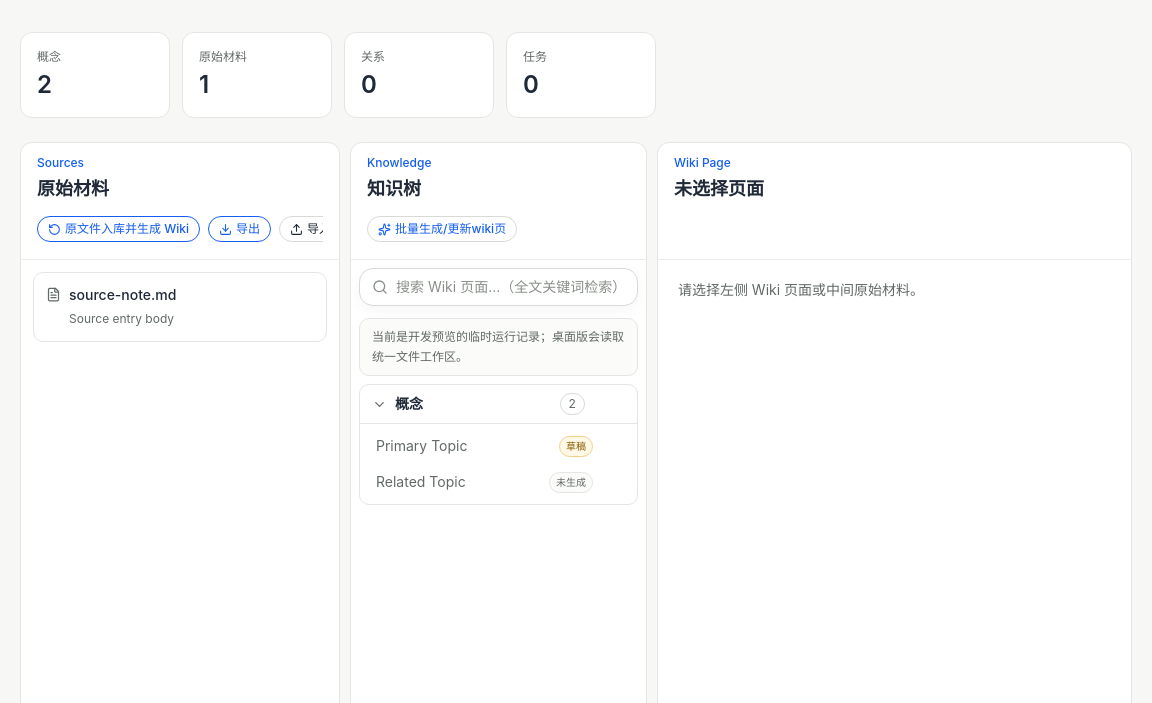
Test: RuntimeWikiPage › opens related entities and source entries from metadata chips
Click the button "Primary Topic" at x=461, y=446, box top-left (368, 430), bottom-right (555, 462)
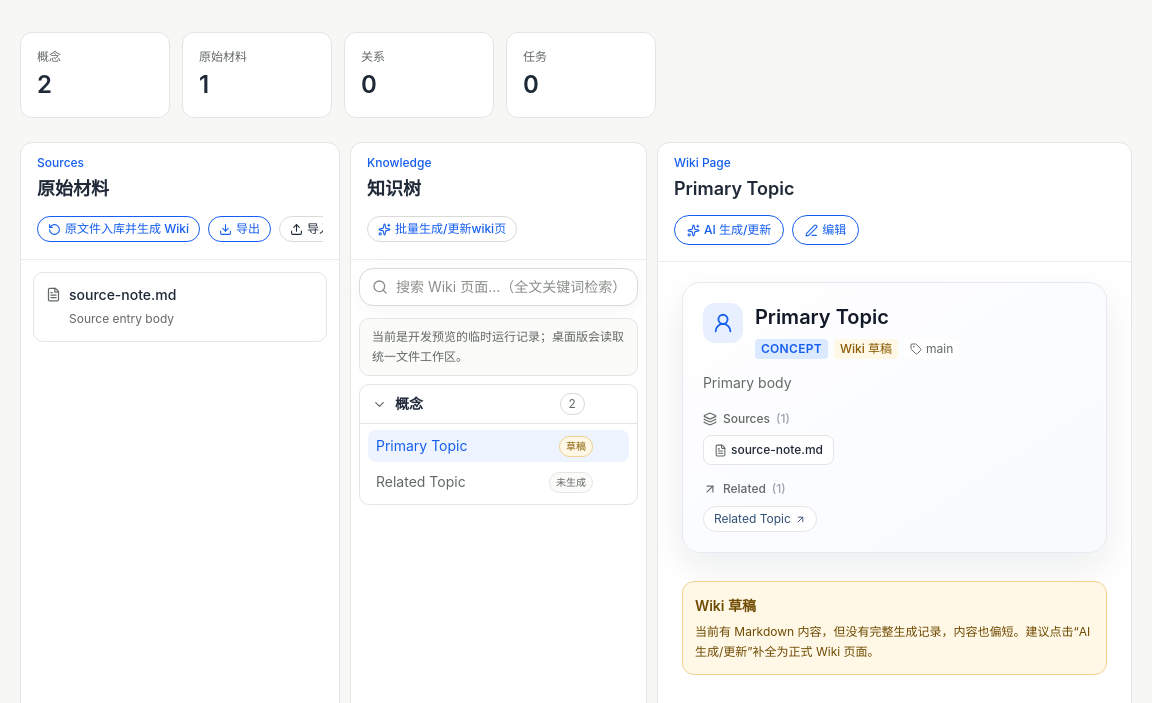
Click the button "Related Topic" below "concept" at x=760, y=518, box top-left (703, 505), bottom-right (817, 532)
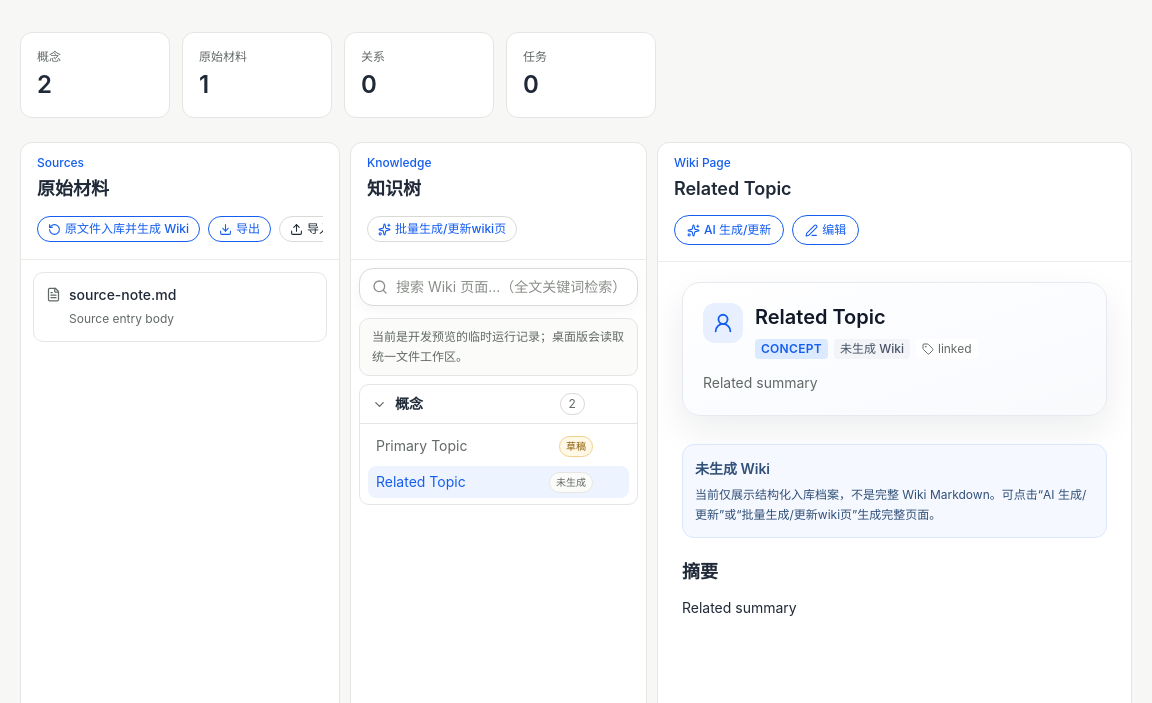
Expected: the text "Related Topic" is shown, top-left (376, 473), bottom-right (466, 490)
Click the button "Primary Topic" at x=461, y=446, box top-left (368, 430), bottom-right (555, 462)
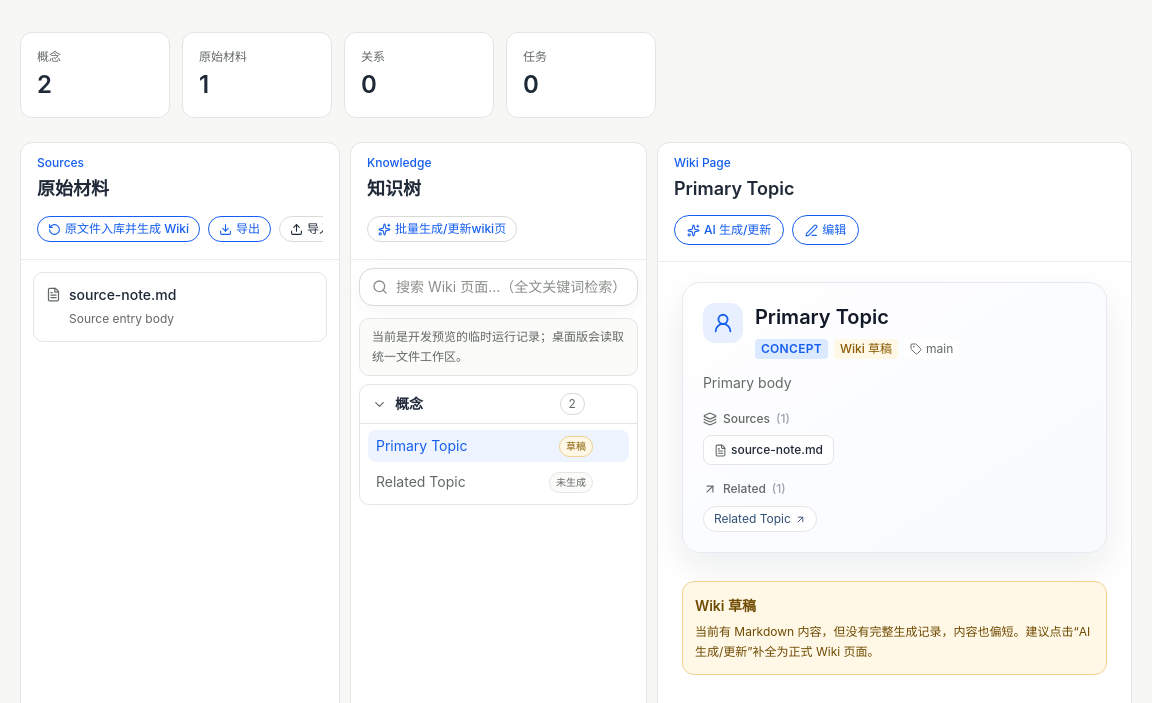
Click the button "source-note.md" at x=768, y=450, box top-left (703, 435), bottom-right (834, 465)
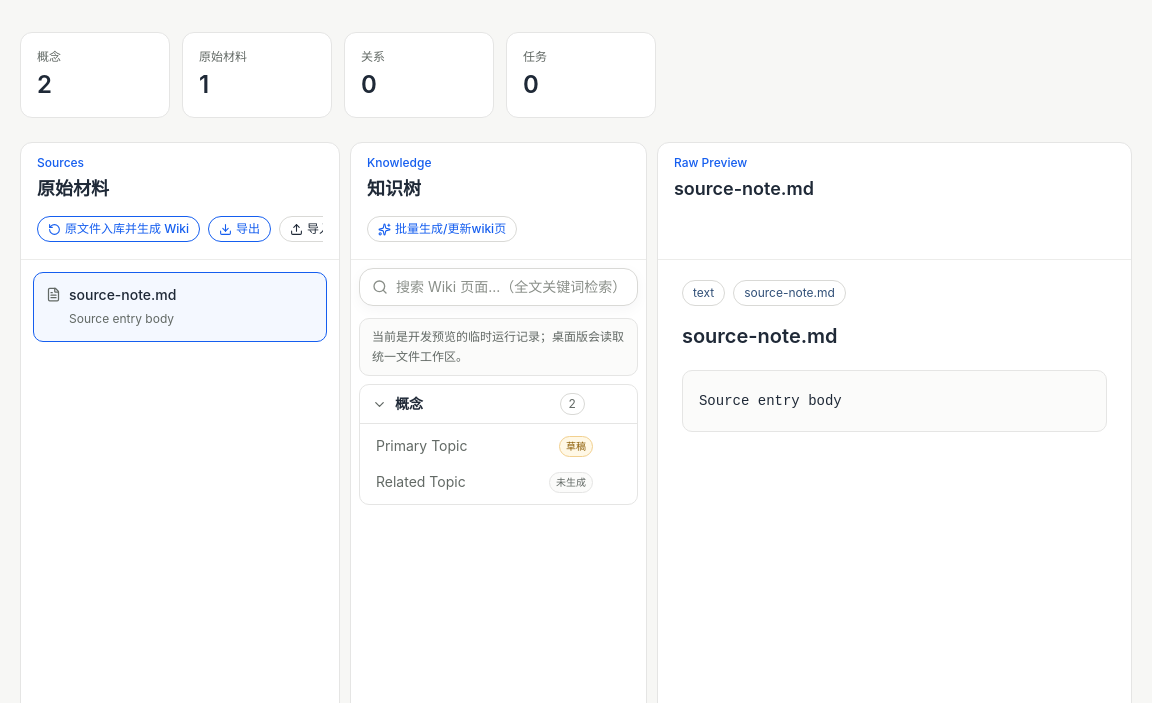
Result: the text "Source entry body" below "text" is shown at top-left (699, 393), bottom-right (842, 409)
